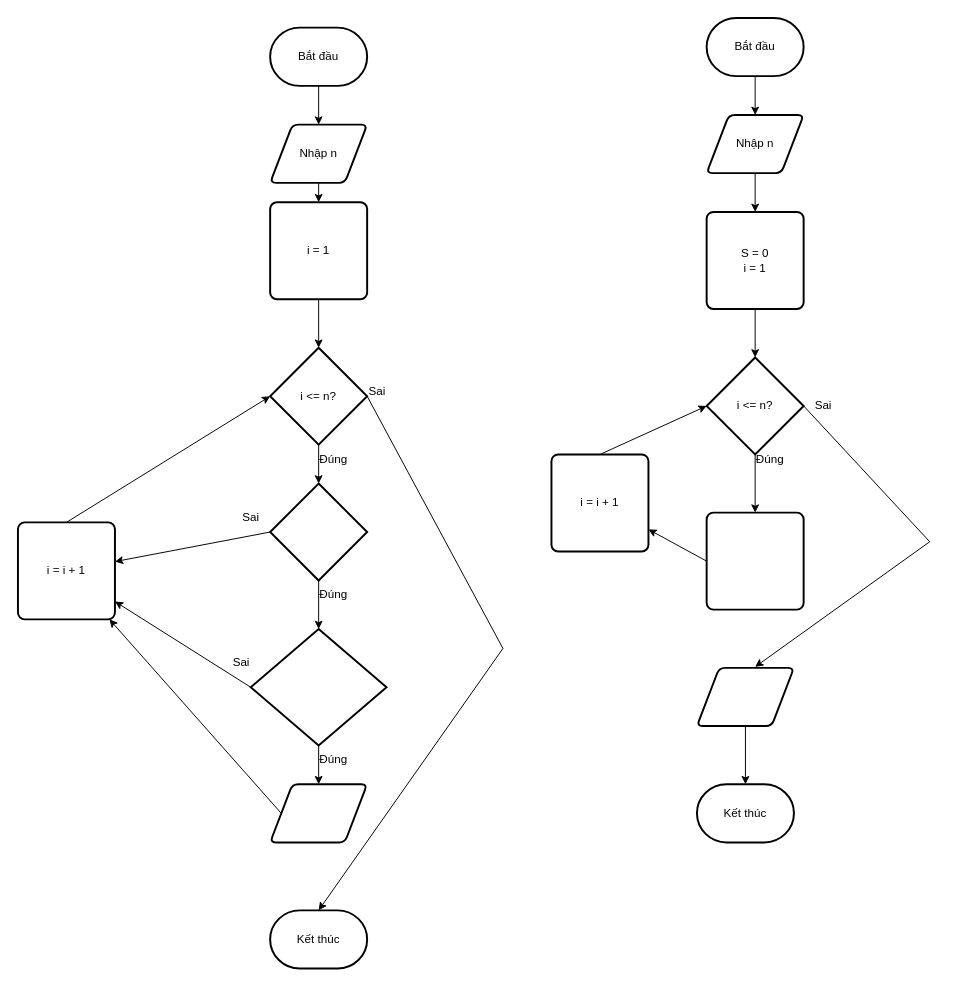
The diagram is 954 pixels wide and 986 high, and some of its shapes have lost their labels. Each missing label, with the box of its shape:
i là số nguyên tố?: (249, 628, 387, 746)
n % i == 0?: (269, 482, 368, 581)
S = sqrt(2 + S): (705, 511, 804, 610)
Xuất i: (269, 783, 368, 843)
Xuất S: (695, 666, 794, 727)
